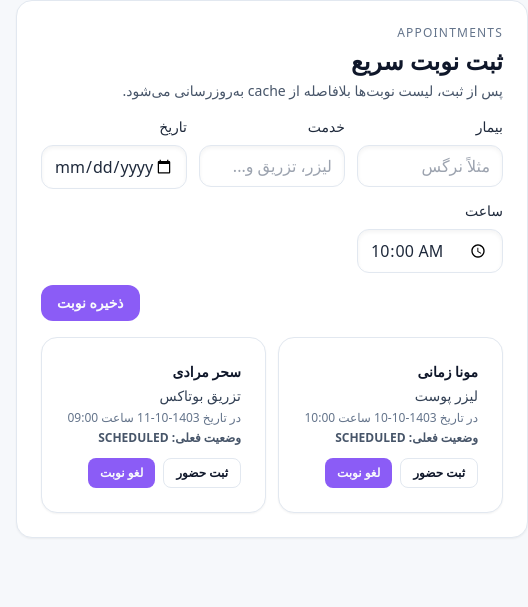
Test case: AppointmentScheduler › updates appointment status and shows toast
Expected: the text "مونا زمانی" is shown, [417, 362, 478, 381]
Step 1. Click the button "ثبت حضور" below "1403-10-10" → (439, 473), box [400, 458, 478, 488]
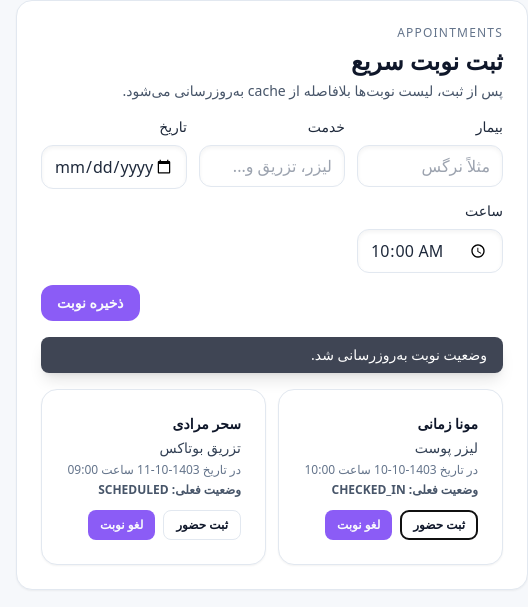
Now the text "وضعیت نوبت به‌روزرسانی شد." is shown, box [41, 337, 503, 373]
